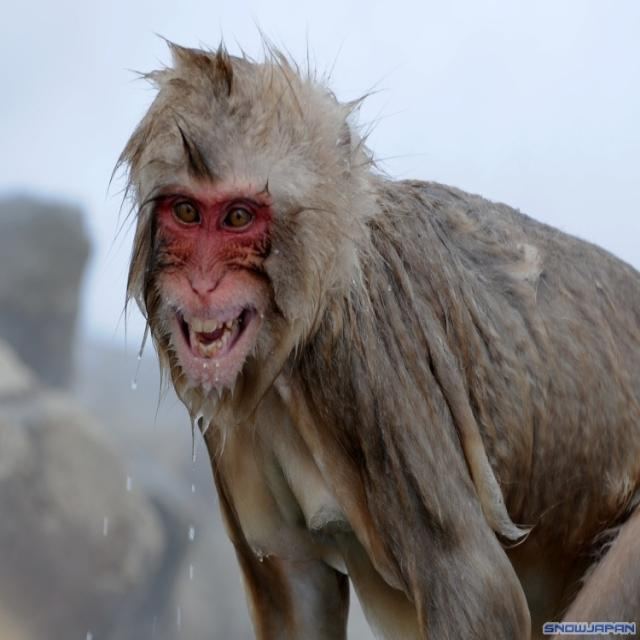not_pig: (107, 21, 638, 638)
